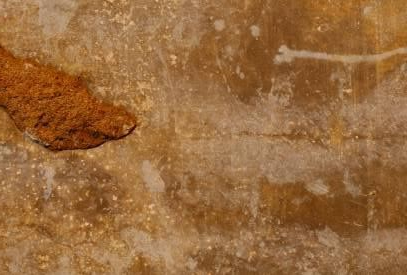Corrosion: (1, 43, 140, 154)
